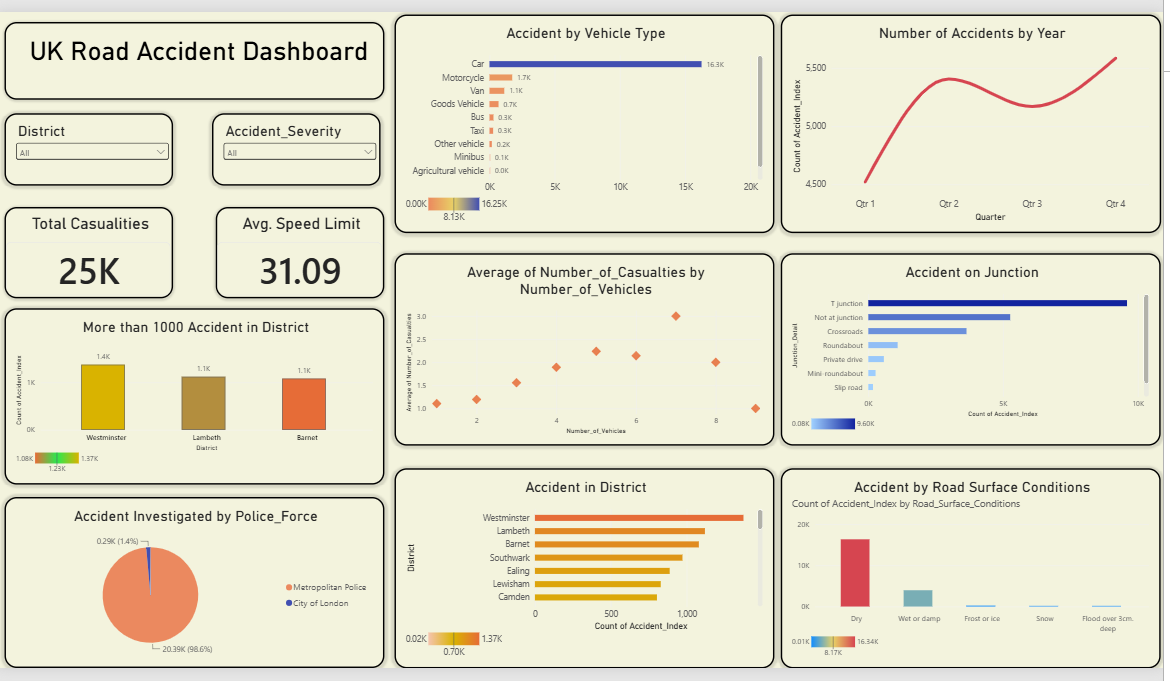

What the dashboard file says about the page in this screenshot:
{"tool":"powerbi","page":{"name":"Page 1","canvas":[1920,1080],"ordinal":0},"visuals":[{"type":"shape","box":[0,0,1918.4,1079.7],"z":500},{"type":"textbox","title":"UK Road Accident Dashboard","box":[12.3,16.5,625.7,127.6],"z":1000},{"type":"slicer","fields":{"Values":["Accident_details.District"]},"box":[12.3,166.7,277.9,119.4],"z":2000},{"type":"slicer","fields":{"Values":["Accident_details.Accident_Severity"]},"box":[354,166.7,277.9,119.4],"z":3000},{"type":"cardVisual","title":"Total Casualities","fields":{"Data":["Sum(Accident_details.Number_of_Casualties)"]},"box":[12.3,321.1,277.9,150.3],"z":4000},{"type":"cardVisual","title":"Avg. Speed Limit","fields":{"Data":["Avg(Accident_details.Speed_limit)"]},"box":[360.2,321.1,277.9,150.3],"z":5000},{"type":"clusteredColumnChart","title":"More than 1000 Accident in District","fields":{"Category":["Accident_details.District"],"Y":["CountNonNull(Accident_details.Accident_Index)"]},"box":[12.3,487.8,625.7,290.2],"z":6000},{"type":"pieChart","title":"Accident Investigated by Police_Force","fields":{"Category":["Accident_details.Police_Force"],"Y":["CountNonNull(Accident_details.Accident_Index)"]},"box":[12.3,798.6,625.7,282],"z":7000},{"type":"clusteredBarChart","title":"Accident by Vehicle Type","fields":{"Category":["Accident_details.Vehicle_Type"],"Y":["CountNonNull(Accident_details.Accident_Index)"]},"box":[654.5,4.1,625.7,360.2],"z":8000},{"type":"lineChart","title":"Number of Accidents by Year","fields":{"Category":["Accident_details.Accident Date.Variation.Date Hierarchy.Quarter"],"Y":["CountNonNull(Accident_details.Accident_Index)"]},"box":[1291,4,626,360],"z":9000},{"type":"scatterChart","fields":{"Y":["Avg(Accident_details.Number_of_Casualties)"],"X":["Accident_details.Number_of_Vehicles"]},"box":[654.5,397.3,625.7,317],"z":10000},{"type":"clusteredBarChart","title":"Accident on Junction","fields":{"Category":["Accident_details.Junction_Detail"],"Y":["CountNonNull(Accident_details.Accident_Index)"]},"box":[1290.6,397.3,625.7,317],"z":11000},{"type":"clusteredBarChart","title":"Accident in District","fields":{"Category":["Accident_details.District"],"Y":["CountNonNull(Accident_details.Accident_Index)"]},"box":[654.5,751.3,625.7,329.3],"z":12000},{"type":"clusteredColumnChart","title":"Accident by Road Surface Conditions","fields":{"Category":["Accident_details.Road_Surface_Conditions"],"Y":["CountNonNull(Accident_details.Accident_Index)"]},"box":[1290.6,751.3,625.7,329.3],"z":13000}]}

Visuals, with their boxes in screenshot pixels (x1, y1, x2, y2):
shape: detection(0, 15, 1153, 664)
"UK Road Accident Dashboard" textbox: detection(7, 25, 383, 102)
slicer - Accident_details.District: detection(7, 115, 174, 187)
slicer - Accident_details.Accident_Severity: detection(213, 115, 380, 187)
"Total Casualities" cardVisual: detection(7, 208, 174, 299)
"Avg. Speed Limit" cardVisual: detection(216, 208, 383, 299)
"More than 1000 Accident in District" clusteredColumnChart: detection(7, 308, 383, 483)
"Accident Investigated by Police_Force" pieChart: detection(7, 495, 383, 665)
"Accident by Vehicle Type" clusteredBarChart: detection(393, 18, 769, 234)
"Number of Accidents by Year" lineChart: detection(776, 18, 1152, 234)
scatterChart - Avg(Accident_details.Number_of_Casualties) x Accident_details.Number_of_Vehicles: detection(393, 254, 769, 444)
"Accident on Junction" clusteredBarChart: detection(776, 254, 1152, 444)
"Accident in District" clusteredBarChart: detection(393, 467, 769, 665)
"Accident by Road Surface Conditions" clusteredColumnChart: detection(776, 467, 1152, 665)
